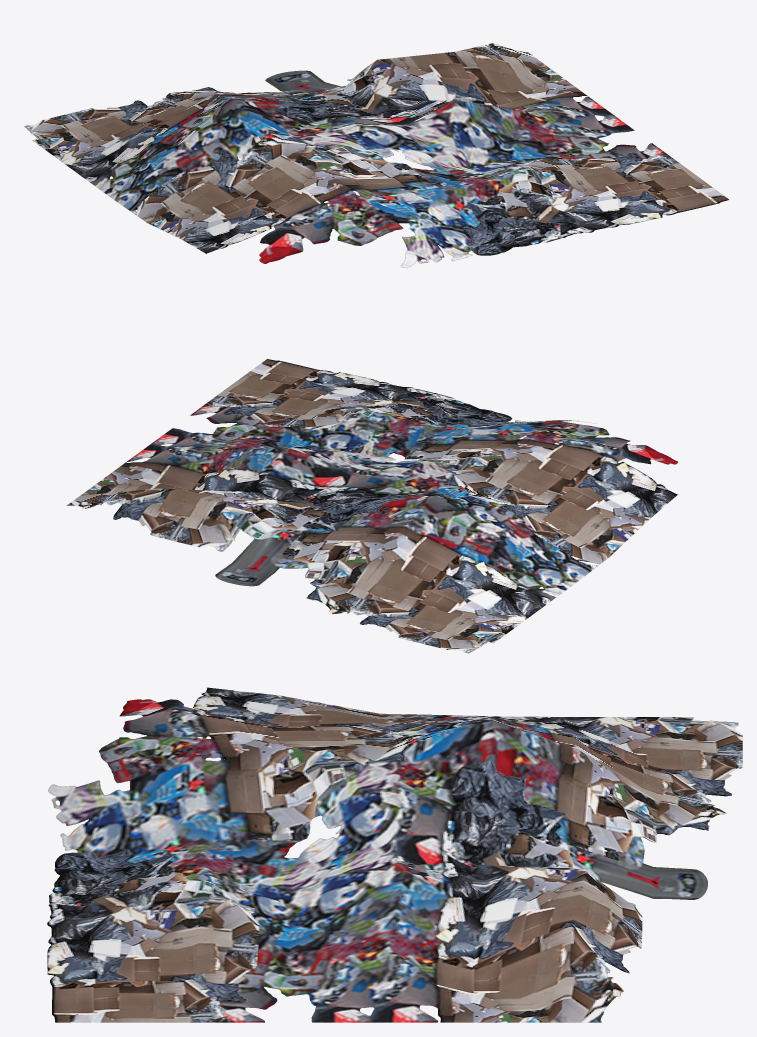
The model's file is GARBAGE.fbx.
The picture shows the model from 3 angles, top to bottom: view 1: azimuth 30°, elevation 25°; view 2: azimuth 150°, elevation 25°; view 3: azimuth 270°, elevation 25°; orthographic projection. The views are drawn at different scales.
Parts seen in each view (by area): view 1: Plane; view 2: Plane; view 3: Plane.
Part boxes in pixels (x1=…): Plane: x1=24, y1=43, x2=728, y2=268; Plane: x1=66, y1=359, x2=678, y2=653; Plane: x1=47, y1=687, x2=742, y2=1022.
Bounding box in the file's own units: 1608 × 200 × 1599.
1 material, 1 textured.
